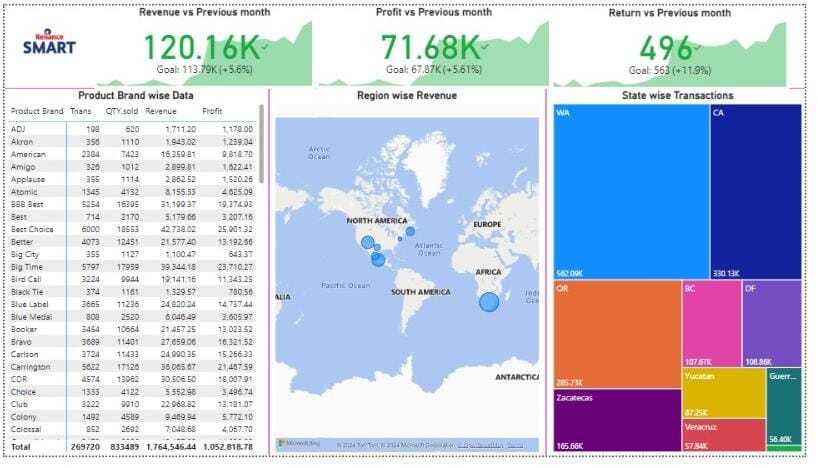

The dashboard page shown, as its layout file describes it:
{"tool":"powerbi","page":{"name":"Primary Report","canvas":[1280,720],"ordinal":0},"visuals":[{"type":"image","box":[0,0,143.8,113.8],"z":0},{"type":"shape","box":[0,113.8,1280,38.8],"z":1000},{"type":"pivotTable","title":"Product Brand wise Data","fields":{"Rows":["d_Products.product_brand"],"Values":["Measures (2).M_Total_Transaction","Measures (2).M_Quantity_Sold","Measures (2).M_Total_Revenue","Measures (2).M_Total_Profit"]},"box":[0,133.8,420,586.2],"z":2000},{"type":"shape","box":[416.2,133.8,12.5,586.2],"z":3000},{"type":"map","title":"Region wise Revenue","fields":{"Category":["d_Regions.sales_region"],"Size":["Measures (2).M_Total_Revenue"]},"box":[428.8,133.8,431.2,586.2],"z":4000},{"type":"shape","box":[860,133.8,12.5,586.2],"z":5000},{"type":"treemap","title":"State wise Transactions","fields":{"Group":["d_Stores.store_state"],"Values":["Measures (2).M_Total_Revenue"]},"box":[872.5,133.8,407.5,586.2],"z":6000},{"type":"kpi","title":"Revenue vs Previous month","fields":{"Indicator":["Measures (2).M_Total_Revenue"],"Goal":["Measures (2).M_Previous_Month_Revenue"],"TrendLine":["d_Calendar.Start of Month"]},"box":[143.8,0,353.8,133.8],"z":7000},{"type":"kpi","title":" Profit vs Previous month","fields":{"Goal":["Measures (2).M_Previous_Month_Profit"],"TrendLine":["d_Calendar.Start of Month"],"Indicator":["Measures (2).M_Total_Profit"]},"box":[497.5,0,377.5,133.8],"z":8000},{"type":"kpi","title":"Return vs Previous month","fields":{"TrendLine":["d_Calendar.Start of Month"],"Indicator":["Measures (2).M_Total_Returns"],"Goal":["Measures (2).M_Previous_Month_Returns"]},"box":[872.5,1.2,382.5,133.8],"z":8001}]}

Visuals, with their boxes in screenshot pixels (x1, y1, x2, y2), scaled from the page's 1280x720 canvas onto the 818x468 screenshot:
image: [0,0,92,74]
shape: [0,74,817,99]
"Product Brand wise Data" pivotTable: [0,87,268,467]
shape: [266,87,274,467]
"Region wise Revenue" map: [274,87,550,467]
shape: [550,87,558,467]
"State wise Transactions" treemap: [558,87,817,467]
"Revenue vs Previous month" kpi: [92,0,318,87]
" Profit vs Previous month" kpi: [318,0,559,87]
"Return vs Previous month" kpi: [558,1,802,88]
